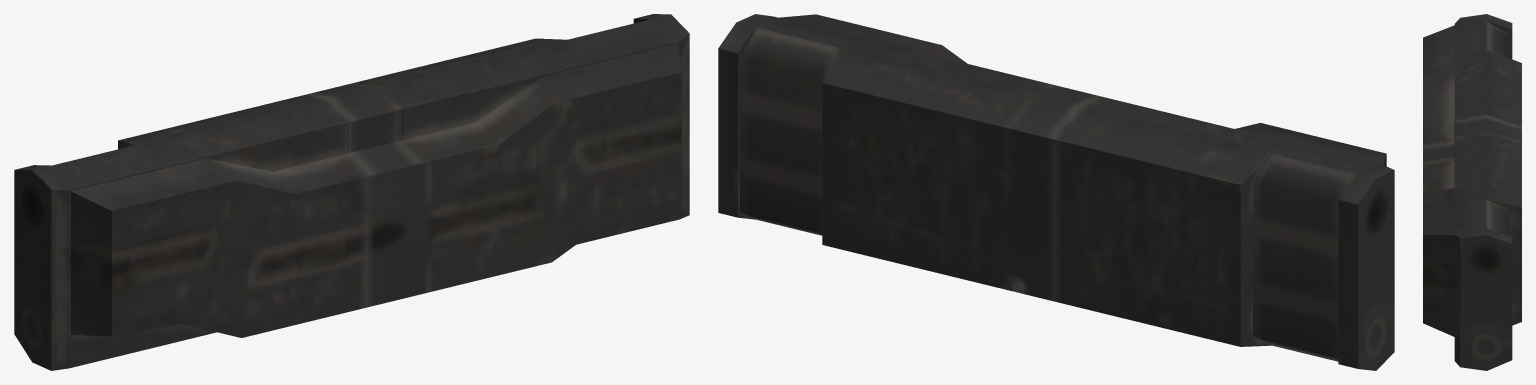
3 views of the same model, side by side, from view 1: azimuth 30°, elevation 25°; view 2: azimuth 150°, elevation 25°; view 3: azimuth 270°, elevation 25° (orthographic). The views are drawn at different scales.
Visible parts, largest first — view 1: set_0_group_0; view 2: set_0_group_0; view 3: set_0_group_0.
Part boxes in pixels (x1,y1,x2,y2): set_0_group_0: (14, 14, 689, 370); set_0_group_0: (718, 14, 1394, 370); set_0_group_0: (1423, 14, 1521, 370).
Bounding box in the file's own units: 0.5978 × 0.1717 × 0.1131.
Materials: 1 (1 with a texture image).
